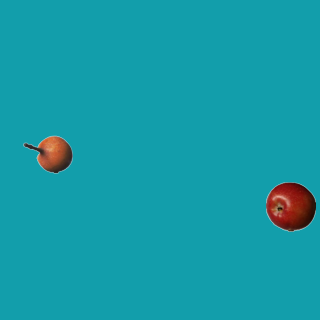Apple Braeburn: (265, 181, 315, 231)
Granadilla: (22, 129, 72, 179)
